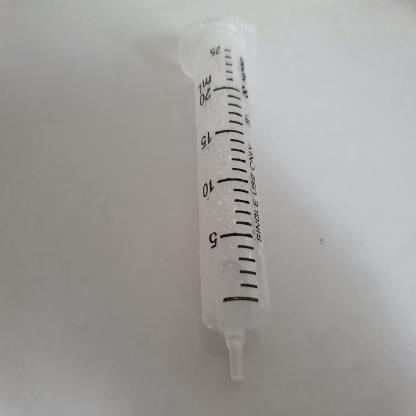wet: (170, 16, 288, 384)
